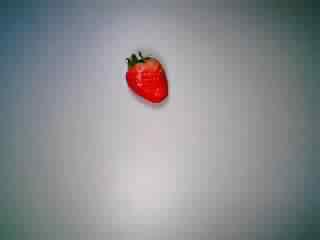strawberry: (110, 44, 176, 106)
